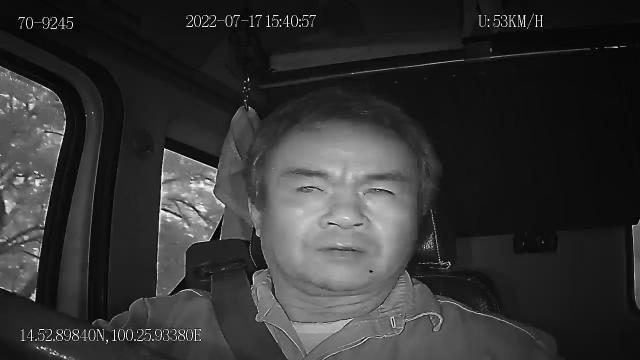SafeDriving: (353, 174, 408, 204), (284, 173, 334, 200)
Seatbelt: (208, 264, 292, 360)
